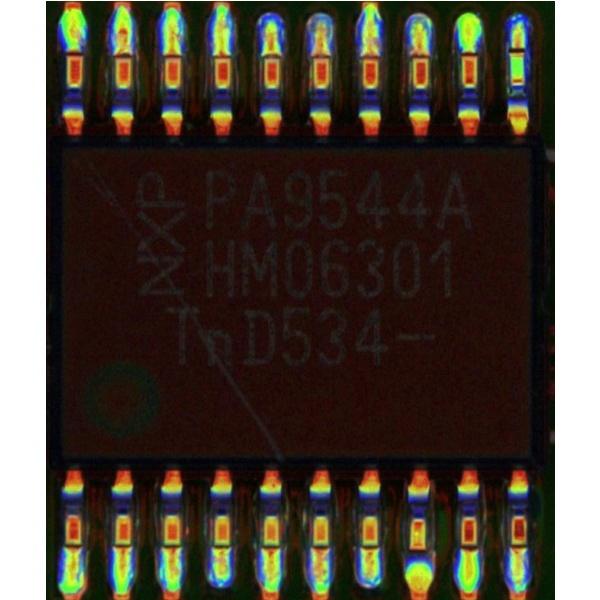Bad_podu: (66, 530, 81, 568), (265, 526, 278, 569), (266, 32, 279, 74), (314, 526, 327, 568), (216, 32, 229, 72), (168, 32, 180, 74), (362, 530, 376, 566), (511, 34, 525, 69), (314, 37, 328, 72), (364, 33, 377, 69), (117, 528, 129, 565), (167, 527, 178, 566), (416, 33, 427, 70), (216, 528, 227, 565), (512, 532, 524, 565), (464, 532, 476, 563)
